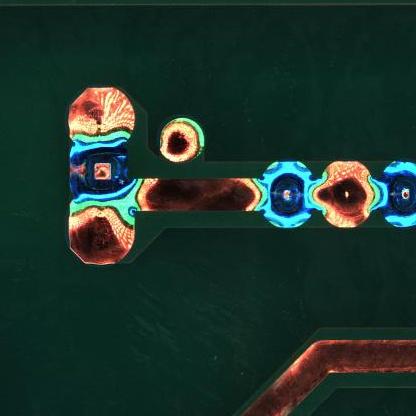spot: (66, 137, 139, 210), (262, 162, 314, 227), (373, 160, 416, 227)
